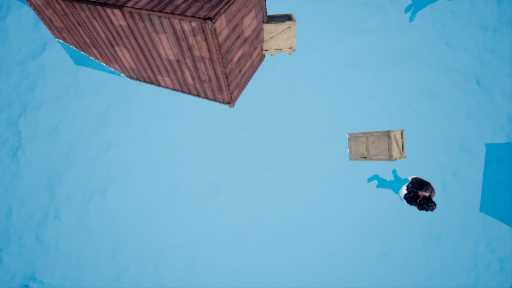person: (372, 171, 448, 218)
